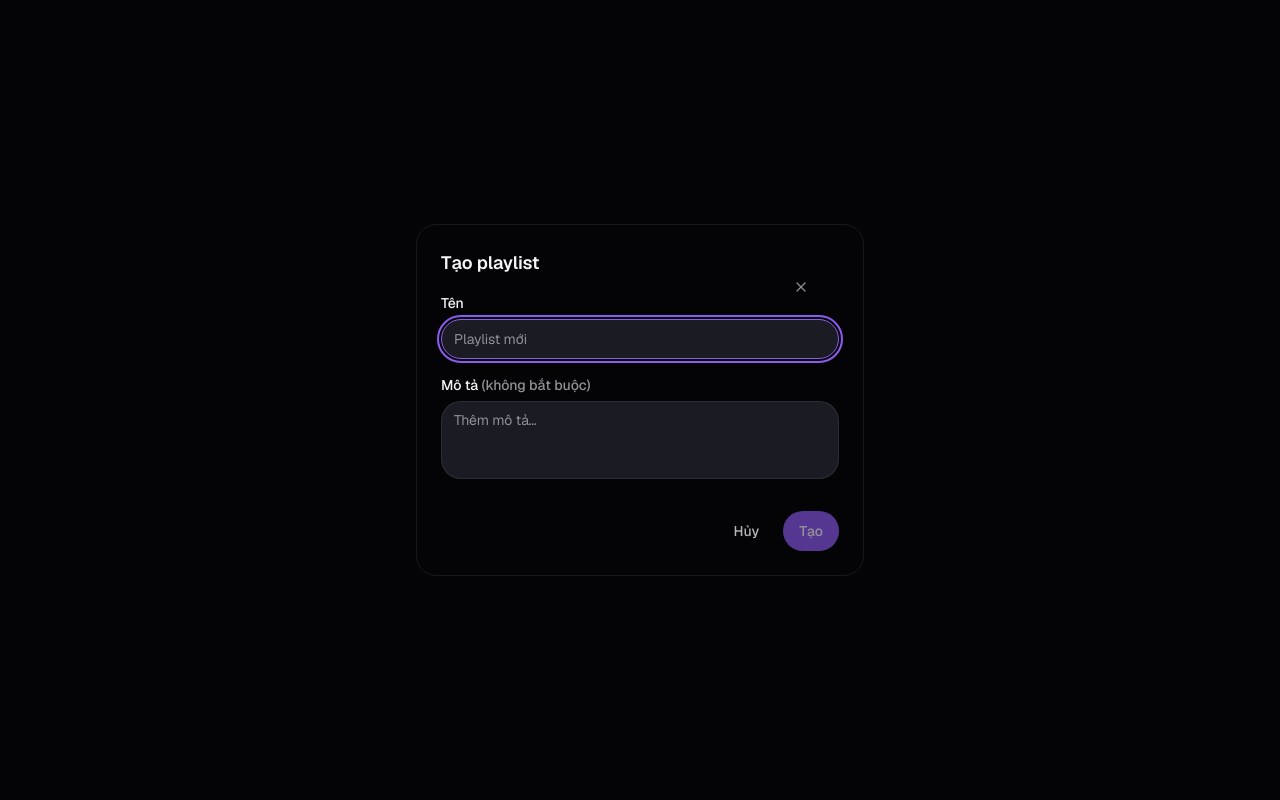
Test: CreatePlaylistDialog › enables submit button when title is entered
The width and height of the screenshot is (1280, 800).
Type "My Playlist" into the field labelled "Tên" at [640, 339], box [441,319,839,359]
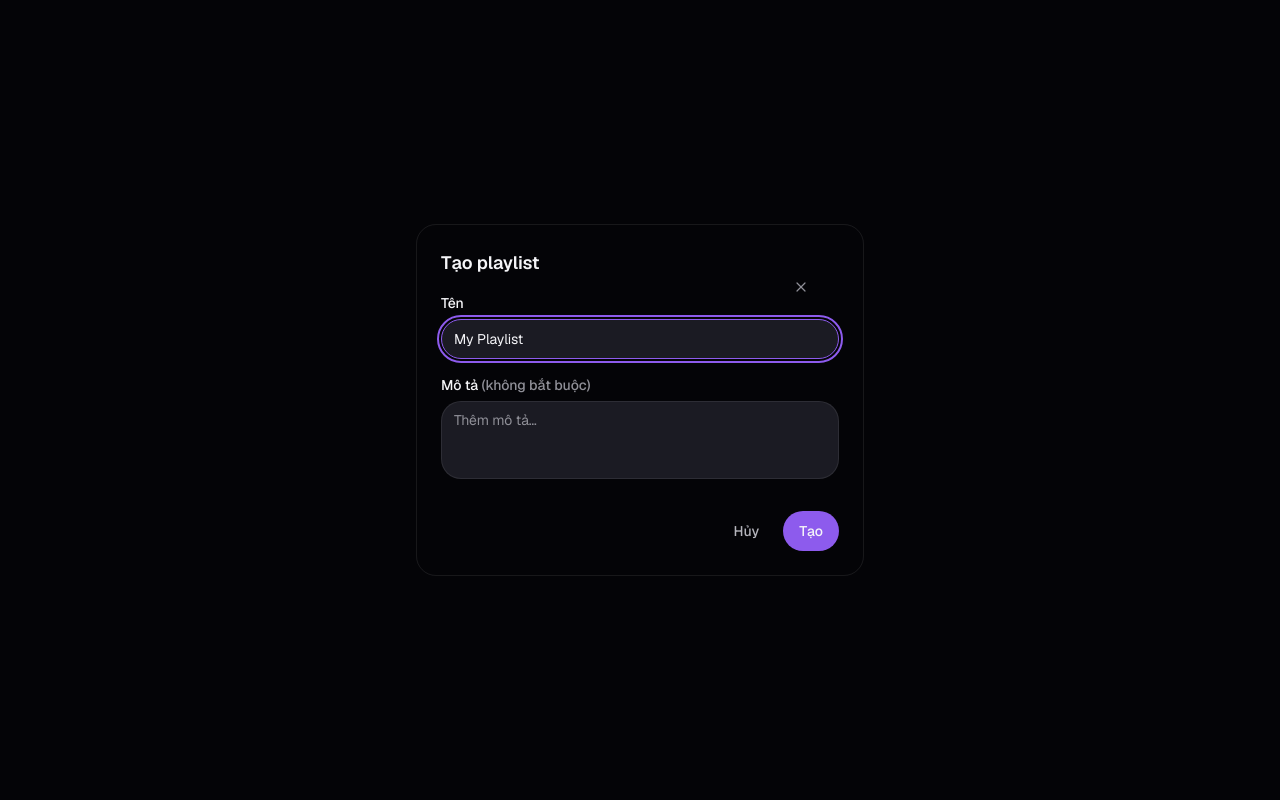
Result: the button "Tạo" is enabled at [783,511,839,551]
